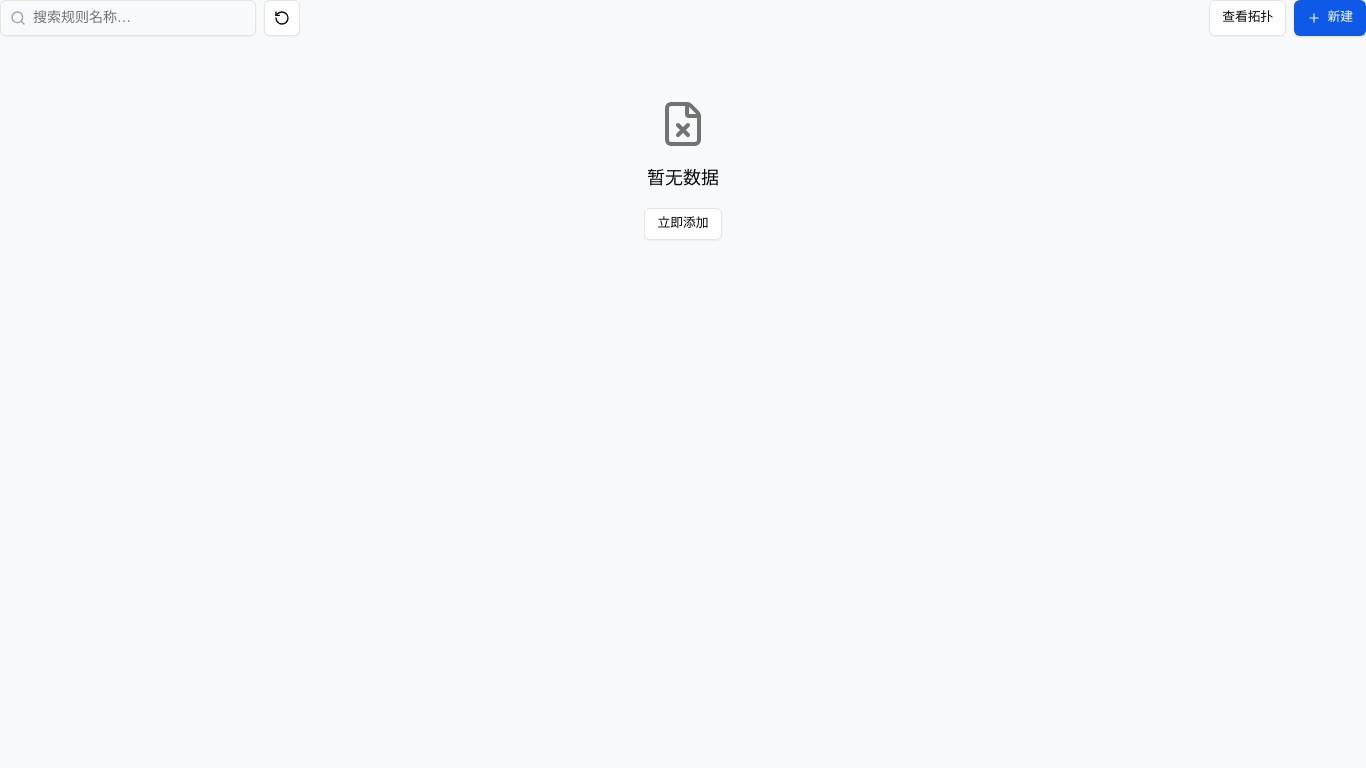
it: RuleStep drawer › 新建规则未填任何条件字段 → 显示兜底规则橙色警告
Check: the element with test id "mr-ob-rule-empty" is shown, box [644, 100, 722, 240]
Click the button with test id "mr-ob-rule-create" at x=1330, y=18, box [1294, 0, 1365, 36]
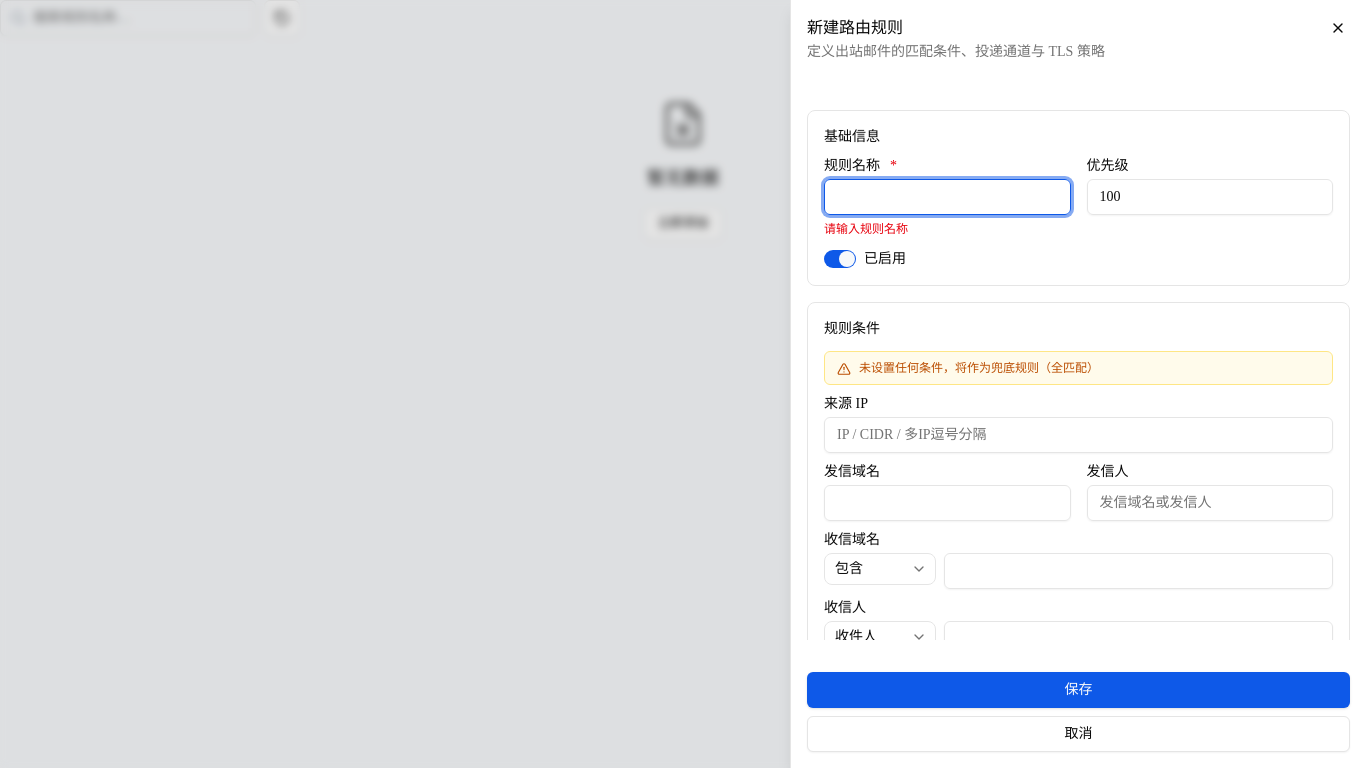
Check: the dialog with test id "mr-ob-rule-drawer" is shown, box [790, 0, 1365, 767]
Check: the element with test id "mr-ob-rule-no-condition-warning" is shown, box [824, 351, 1333, 385]
